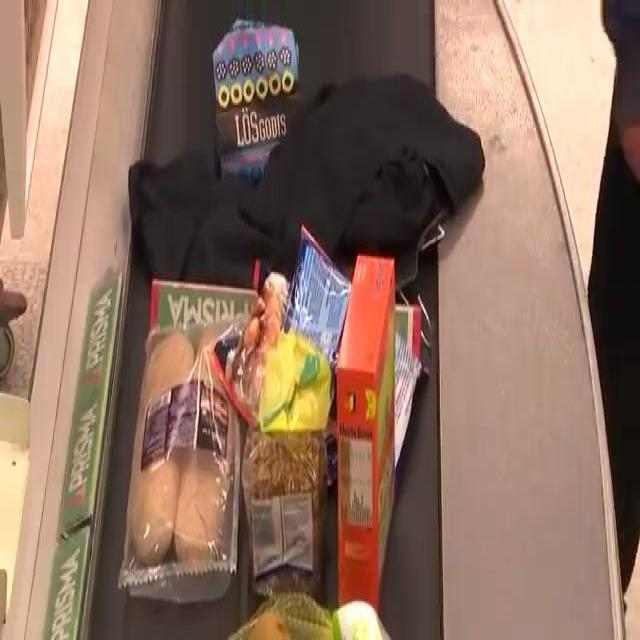food-box: (130, 318, 246, 604), (233, 253, 413, 422), (244, 345, 330, 604), (344, 239, 394, 607)
utility-box: (210, 12, 308, 198)
